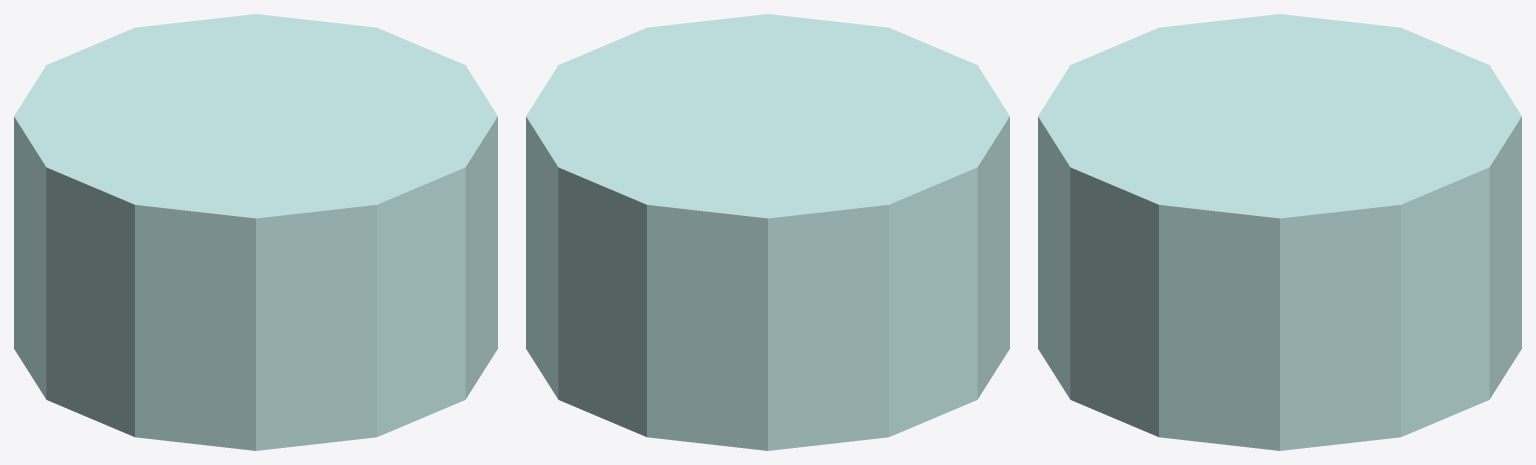
File: cream4.glb
3 views of the same model, side by side, from view 1: azimuth 30°, elevation 25°; view 2: azimuth 150°, elevation 25°; view 3: azimuth 270°, elevation 25° (orthographic).
Size of the model in its own units: 0.35 by 0.1855 by 0.35.
